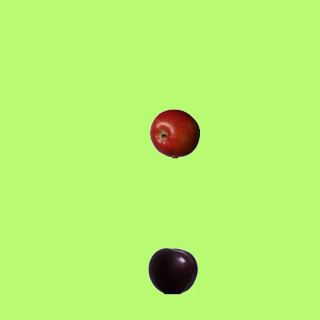Apple Braeburn: (149, 108, 199, 158)
Cherry Wax Black: (147, 245, 197, 295)
